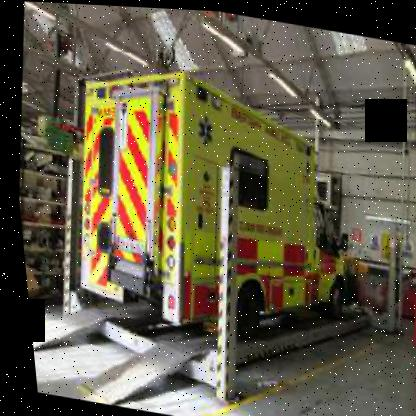emergency: (34, 57, 394, 356)
